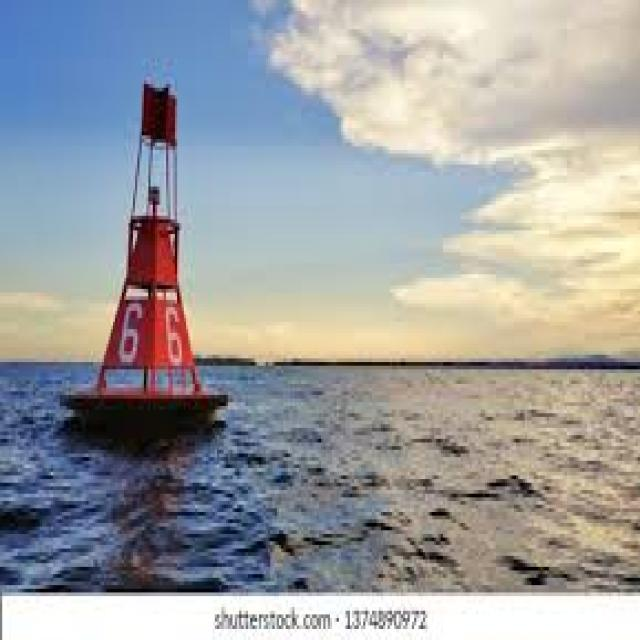marque: (56, 33, 236, 448)
